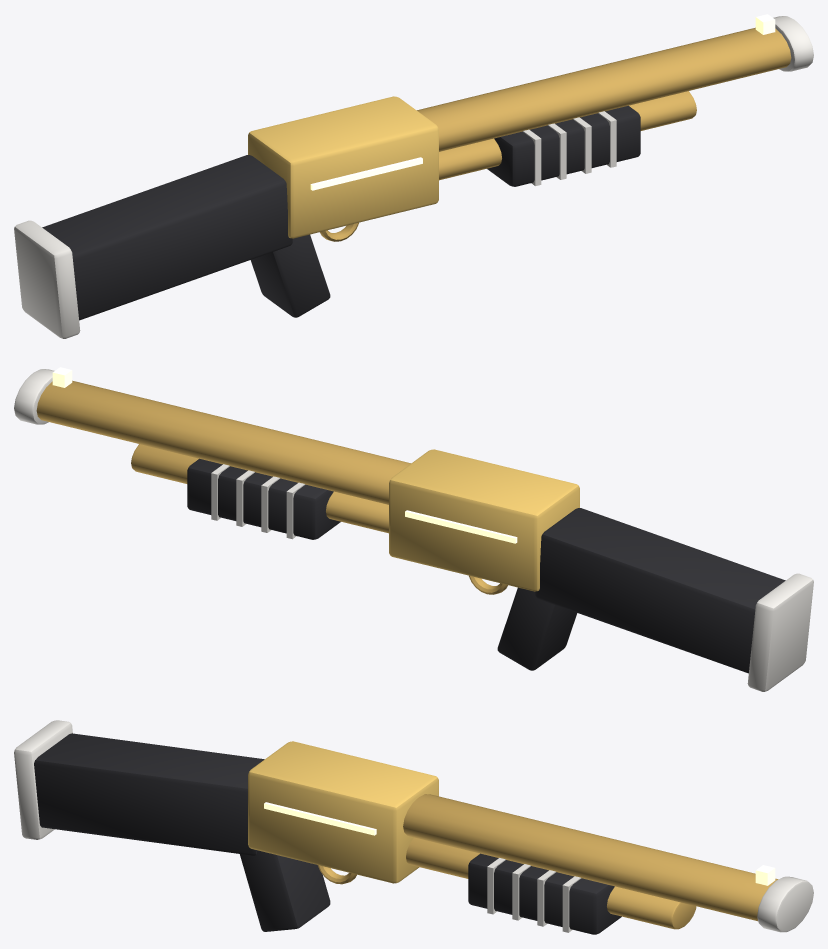
The model's file is SGP_Shotgun_Gilded.glb.
3 views of the same model, one above another, from view 1: azimuth 30°, elevation 25°; view 2: azimuth 150°, elevation 25°; view 3: azimuth 330°, elevation 25° (orthographic).
Visible parts, largest first — view 1: SGP_Shotgun_Gilded; view 2: SGP_Shotgun_Gilded; view 3: SGP_Shotgun_Gilded.
Boxes of the visible parts, <box> form: SGP_Shotgun_Gilded: <box>14,14,813,338</box>; SGP_Shotgun_Gilded: <box>14,367,813,691</box>; SGP_Shotgun_Gilded: <box>14,720,813,934</box>.
Bounding box in the file's own units: 0.759 × 0.1617 × 0.0832.
